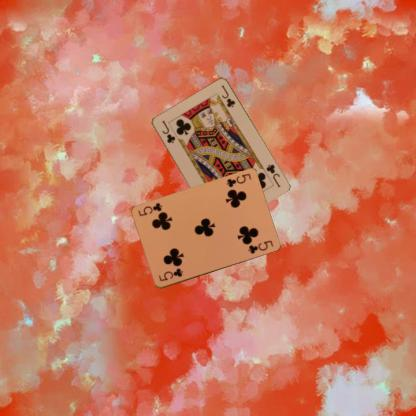5c: (223, 171, 252, 189), (156, 266, 184, 282)
Jc: (263, 162, 282, 188), (159, 118, 176, 144)
